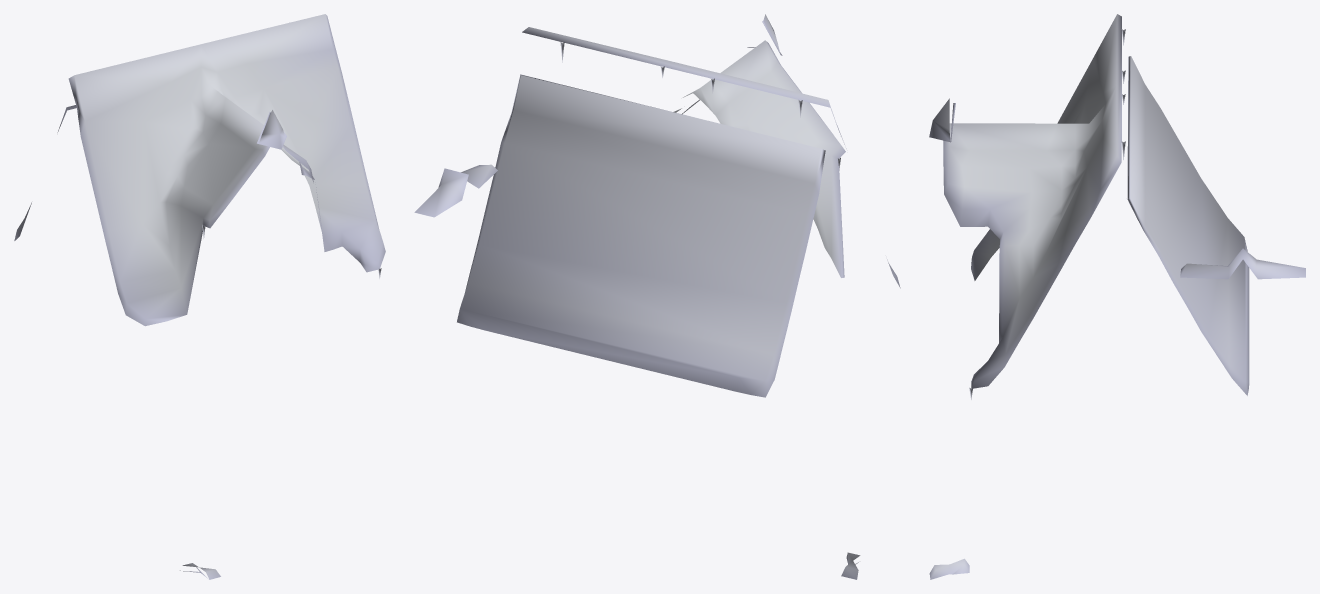
Rendered from category.bridge.s.snow.glb.
The picture shows the model from 3 angles, left to right: view 1: azimuth 30°, elevation 25°; view 2: azimuth 150°, elevation 25°; view 3: azimuth 270°, elevation 25°; orthographic projection. The views are drawn at different scales.
Parts seen in each view (by area): view 1: snow, tier.6; view 2: snow, tier.2; view 3: snow, tier.2, tier.6.
Boxes of the visible parts, box(x1,y1,x2,y2) form: snow: box(14, 14, 385, 579); tier.6: box(257, 110, 286, 149); snow: box(457, 27, 900, 579); tier.2: box(414, 164, 497, 217); snow: box(929, 14, 1249, 579); tier.2: box(1180, 248, 1305, 279); tier.6: box(929, 98, 955, 142).
Bounding box in the file's own units: 3.38 × 5.43 × 3.5.
